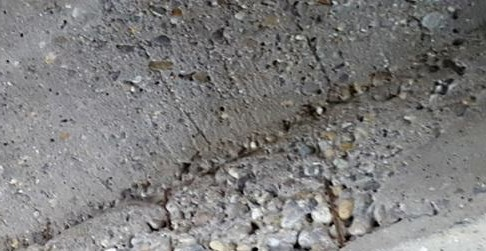Exposed reinforcement: (324, 177, 346, 247)
Spalling: (1, 1, 486, 251)
